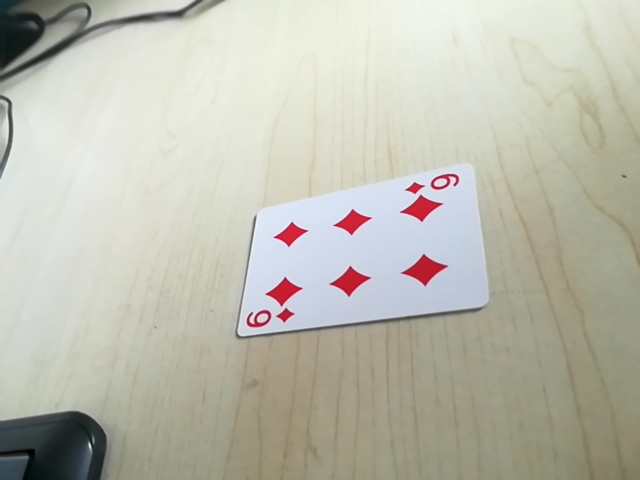fk 6: (405, 168, 468, 196), (240, 306, 299, 333)
